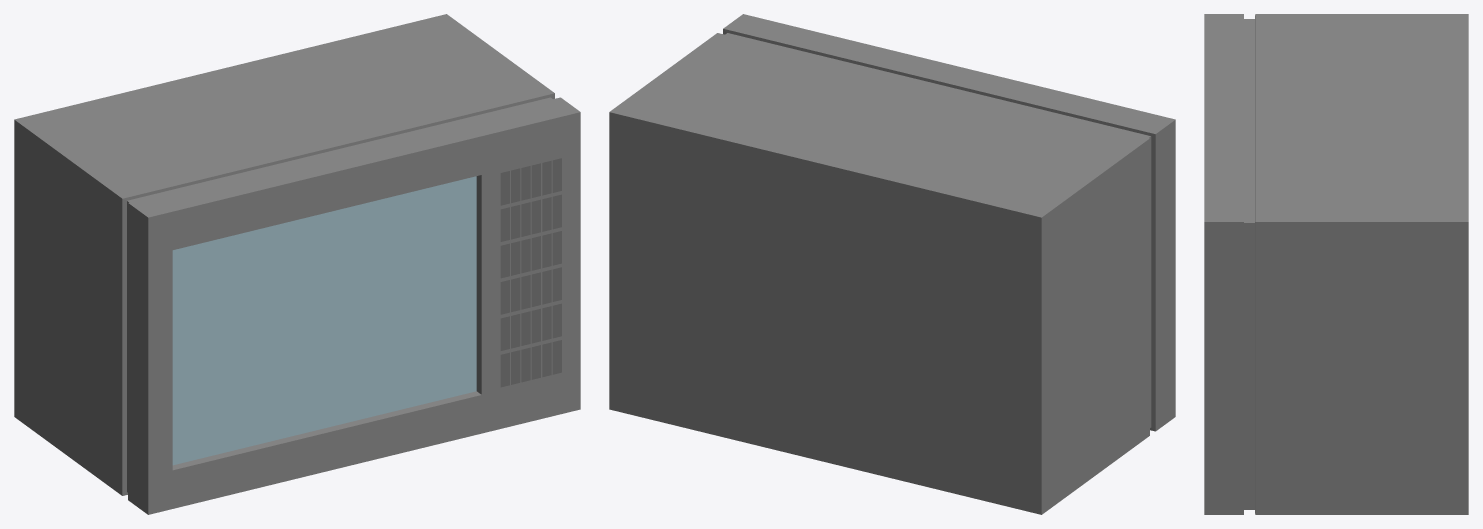
Rendered from MikrowelaXD.fbx.
The picture shows the model from 3 angles, left to right: view 1: azimuth 30°, elevation 25°; view 2: azimuth 150°, elevation 25°; view 3: azimuth 270°, elevation 25°; orthographic projection.
Parts seen in each view (by area): view 1: MikrowelaXD; view 2: MikrowelaXD; view 3: MikrowelaXD.
Part boxes in pixels (bbox=[...]): MikrowelaXD: bbox=[14, 14, 580, 514]; MikrowelaXD: bbox=[609, 14, 1175, 514]; MikrowelaXD: bbox=[1204, 14, 1468, 514].
Bounding box in the file's own units: 39.83 × 21.38 × 26.17.
